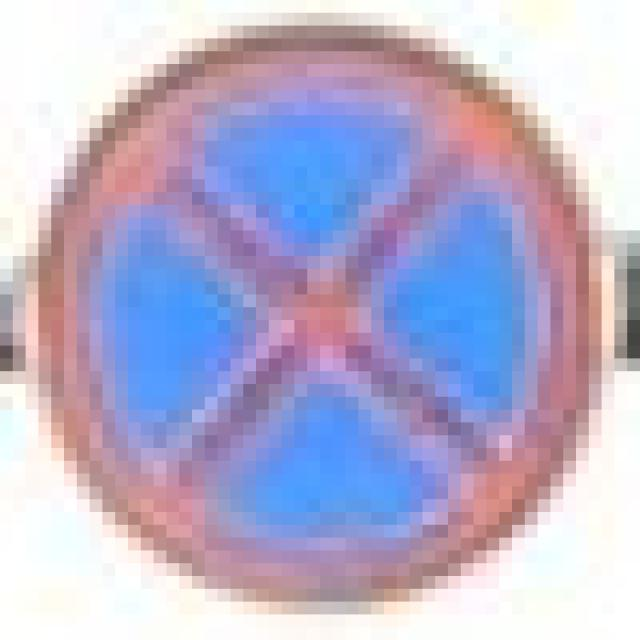no_parking: (38, 12, 589, 602)
